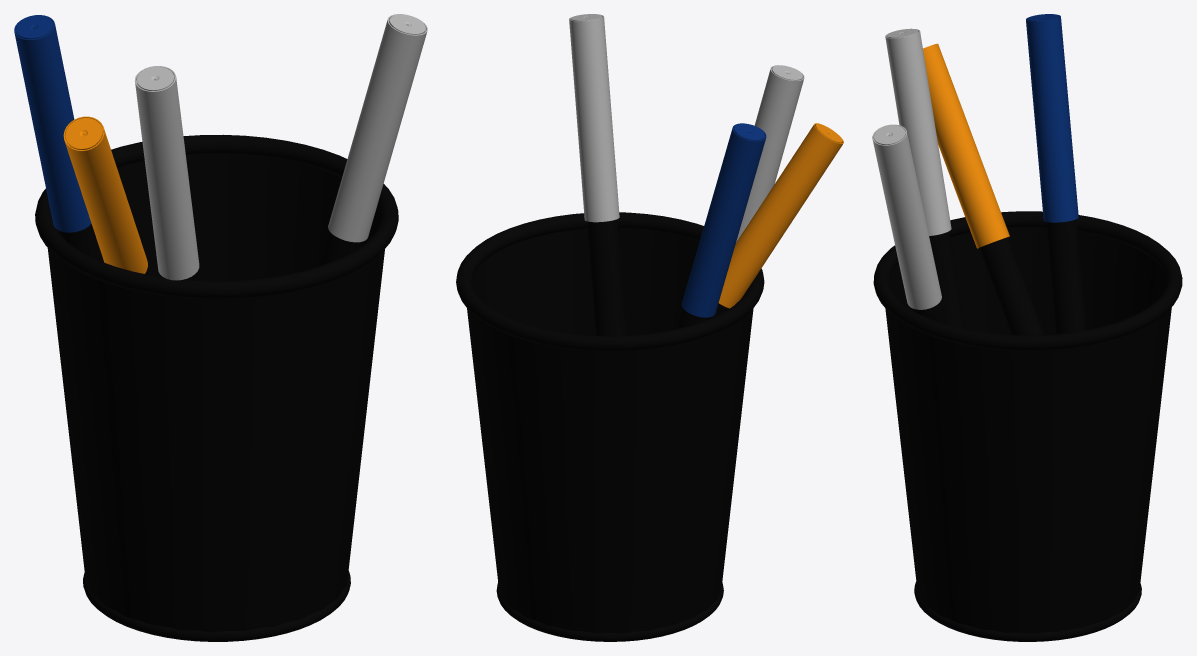
File: DEC_cup_pencil001.FBX
The picture shows the model from 3 angles, left to right: view 1: azimuth 30°, elevation 25°; view 2: azimuth 150°, elevation 25°; view 3: azimuth 270°, elevation 25°; orthographic projection. The views are drawn at different scales.
Parts seen in each view (by area): view 1: DEC_cup_pencil001; view 2: DEC_cup_pencil001; view 3: DEC_cup_pencil001.
Part boxes in pixels (x1,y1,x2,y2): DEC_cup_pencil001: (14, 14, 427, 641); DEC_cup_pencil001: (456, 14, 843, 641); DEC_cup_pencil001: (872, 14, 1182, 641).
Size of the model in its own units: 10.69 by 9.15 by 16.62.
